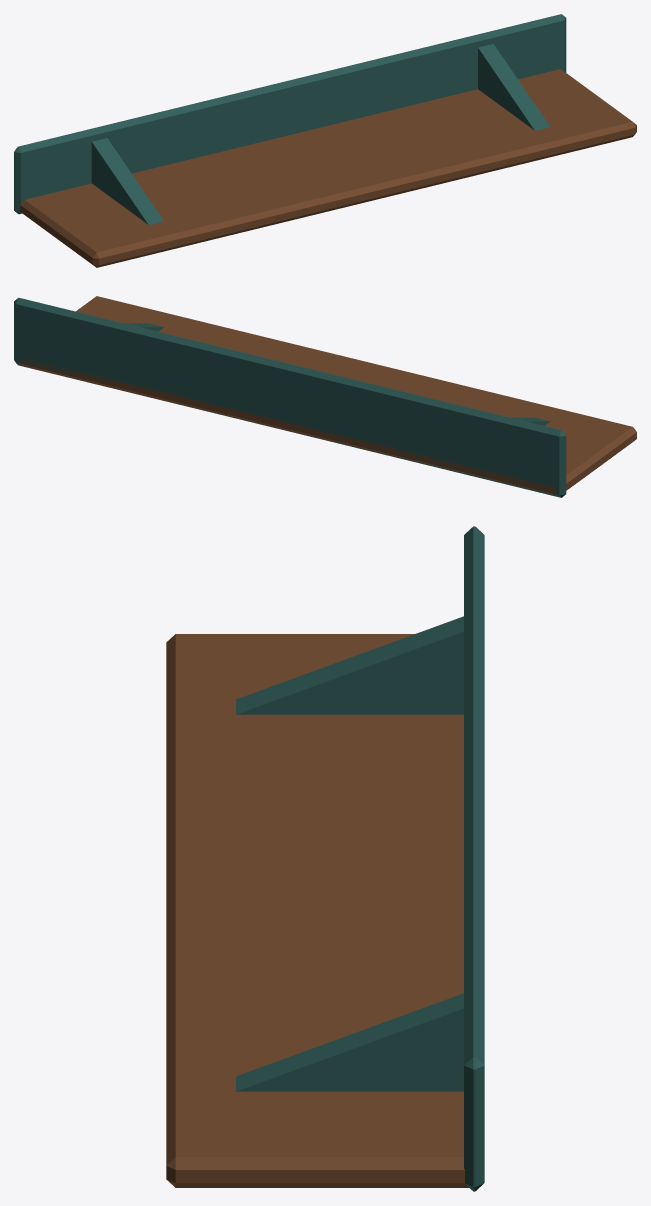
File: P05_wall_shelf.glb
The picture shows the model from 3 angles, top to bottom: view 1: azimuth 30°, elevation 25°; view 2: azimuth 150°, elevation 25°; view 3: azimuth 270°, elevation 25°; orthographic projection. The views are drawn at different scales.
Visible parts, largest first — view 1: P05_Wall_Shelf; view 2: P05_Wall_Shelf; view 3: P05_Wall_Shelf.
Part boxes in pixels (x1,y1,x2,y2): P05_Wall_Shelf: [14, 14, 636, 267]; P05_Wall_Shelf: [14, 296, 636, 497]; P05_Wall_Shelf: [166, 526, 484, 1191].
Size of the model in its own units: 6 by 0.7 by 1.5.
